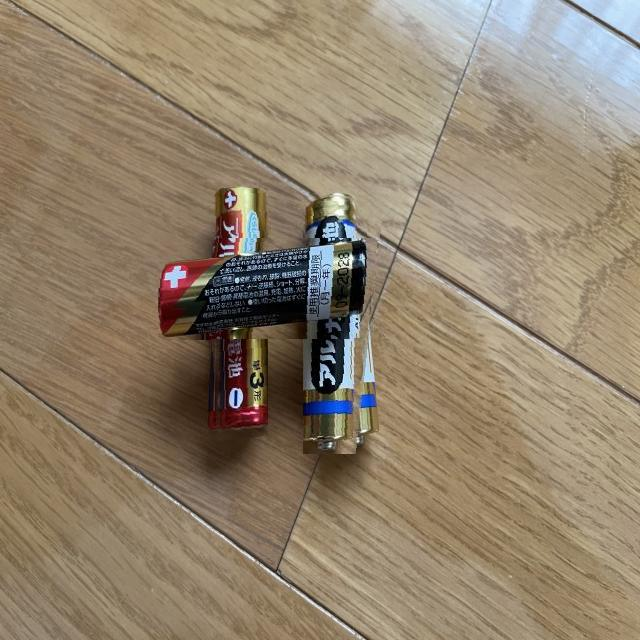battery: (158, 238, 378, 340), (303, 192, 384, 454), (204, 188, 268, 441)
